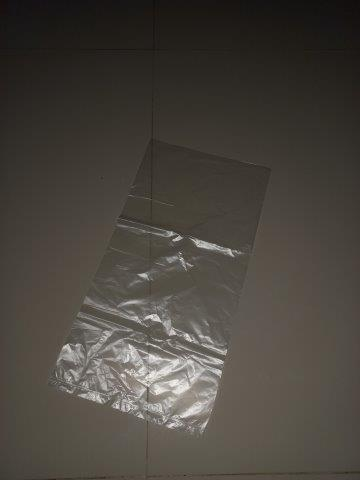plastik: (51, 140, 273, 437)
